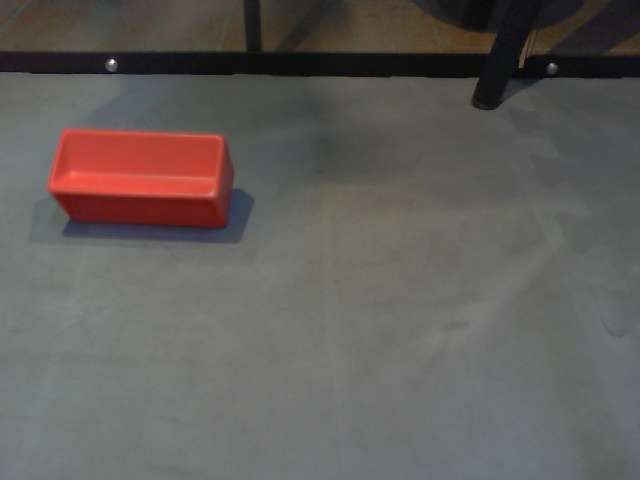RedSample: (46, 126, 236, 234)
